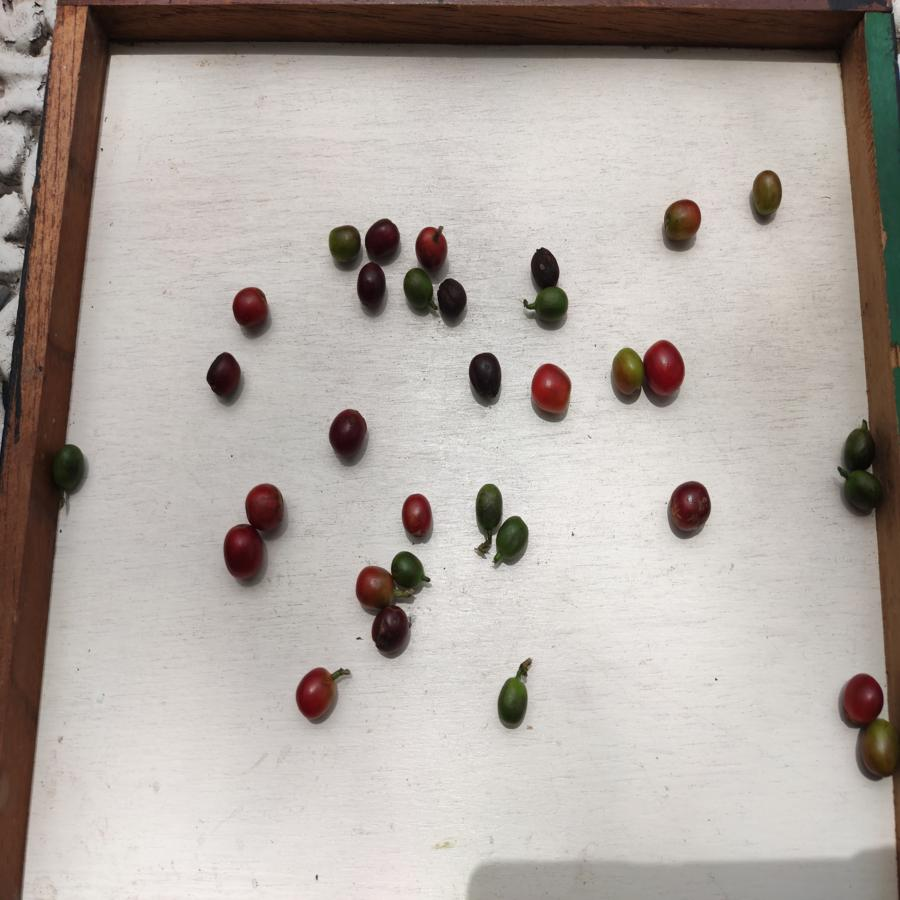Inmaduro: (840, 469, 883, 515), (50, 443, 87, 496), (493, 512, 532, 557), (495, 677, 529, 728), (841, 422, 875, 471), (392, 550, 429, 592), (402, 266, 434, 314), (474, 483, 505, 532), (531, 288, 572, 324)
Maduro: (839, 671, 885, 724), (644, 340, 685, 397), (292, 668, 337, 719), (245, 481, 287, 534), (224, 526, 265, 580), (530, 364, 573, 415), (399, 491, 433, 541), (229, 286, 269, 327), (413, 223, 450, 262)
Pinton: (859, 720, 900, 782), (661, 199, 706, 246), (747, 169, 785, 221), (610, 347, 644, 401), (353, 564, 393, 608), (327, 224, 362, 267)
Sobremaduro: (667, 481, 714, 534), (327, 407, 369, 460), (370, 607, 411, 654), (467, 352, 504, 403), (205, 352, 243, 399), (363, 217, 400, 262), (528, 246, 561, 289), (436, 278, 469, 320), (357, 263, 386, 310)
